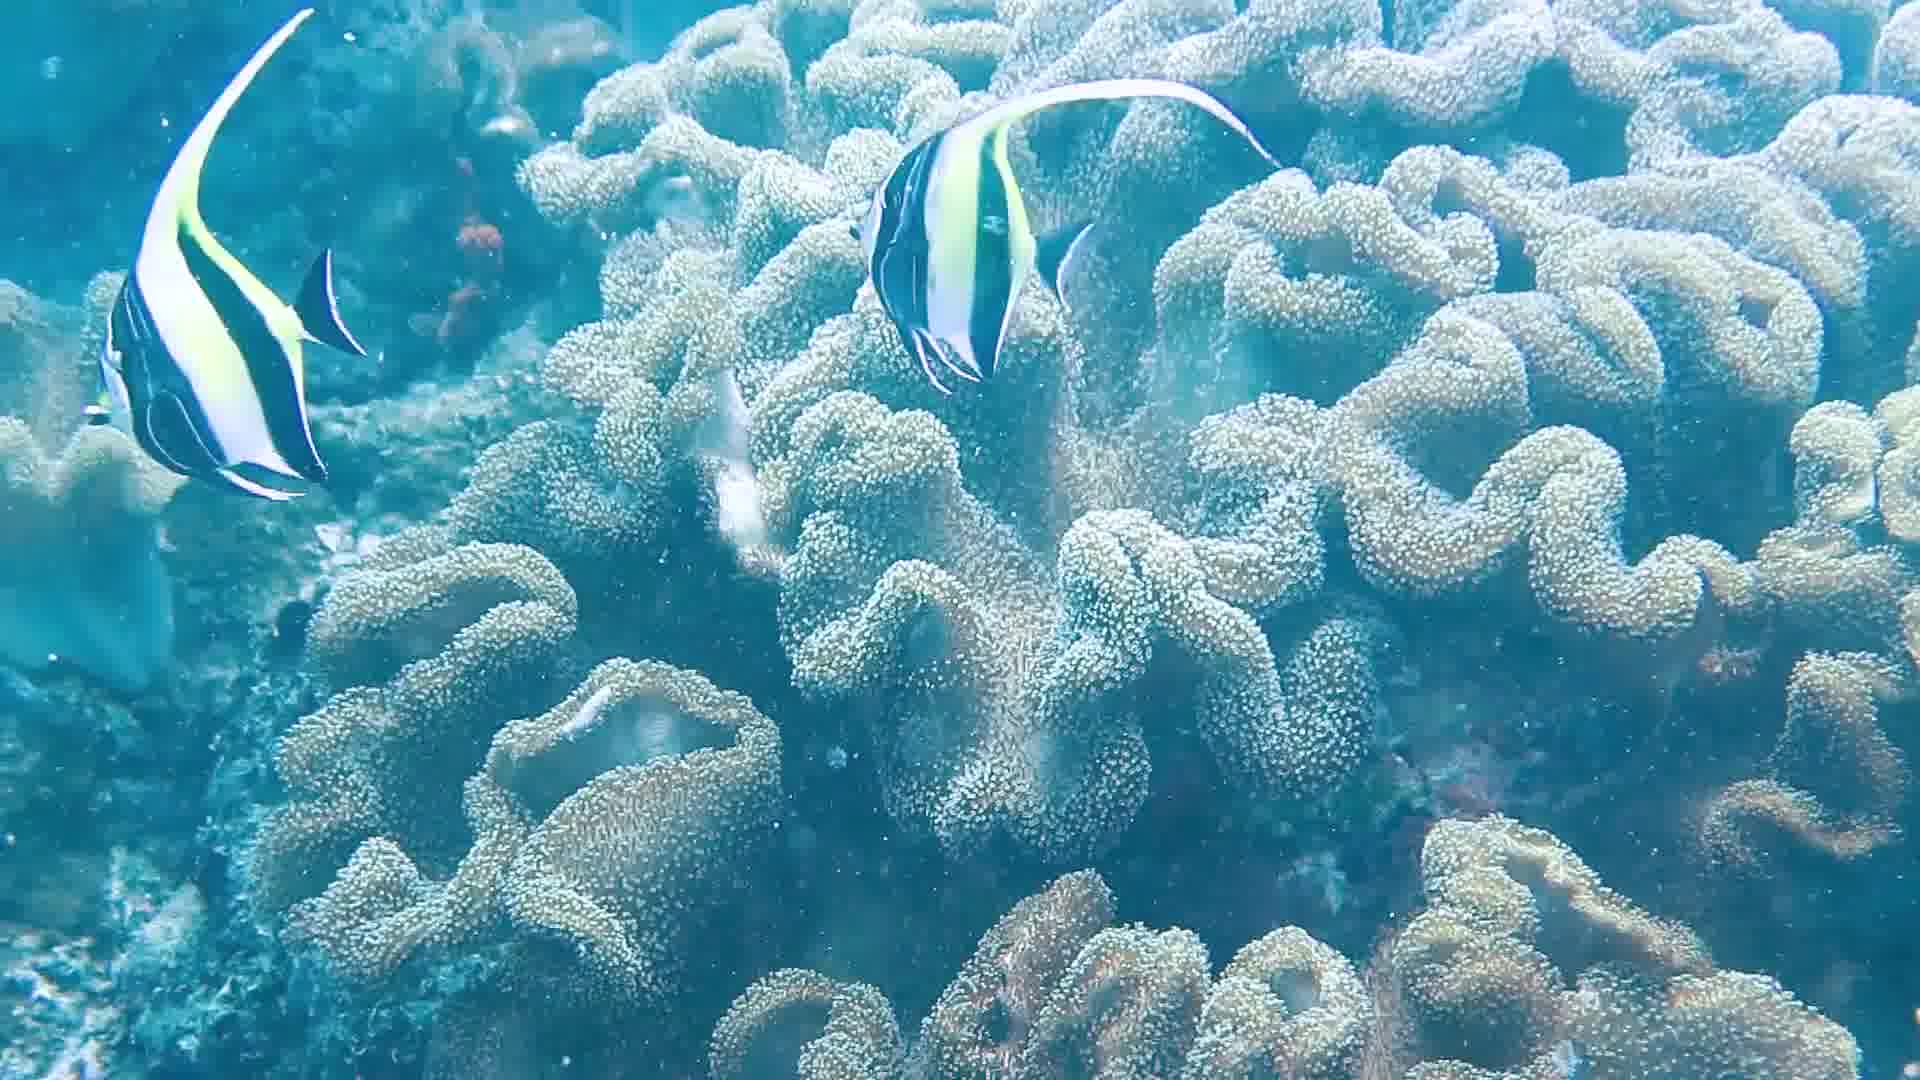Zanclus cornutus: (84, 181, 363, 512), (825, 76, 1104, 407)
